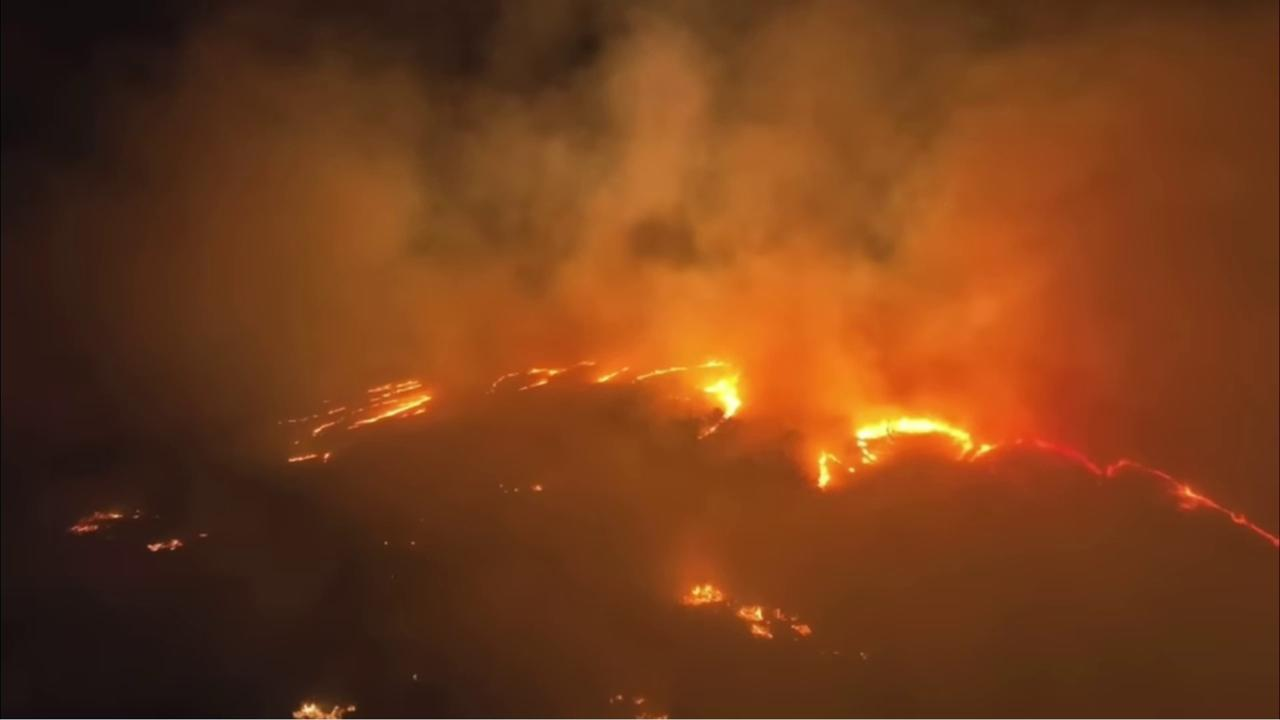fire: (811, 412, 1280, 553), (595, 357, 746, 443), (304, 377, 435, 446), (672, 580, 816, 642), (485, 352, 594, 398), (63, 504, 125, 538), (289, 697, 360, 720), (144, 532, 187, 559), (281, 451, 331, 473), (630, 709, 671, 720), (531, 481, 543, 495)
smoke: (0, 0, 1280, 720)
